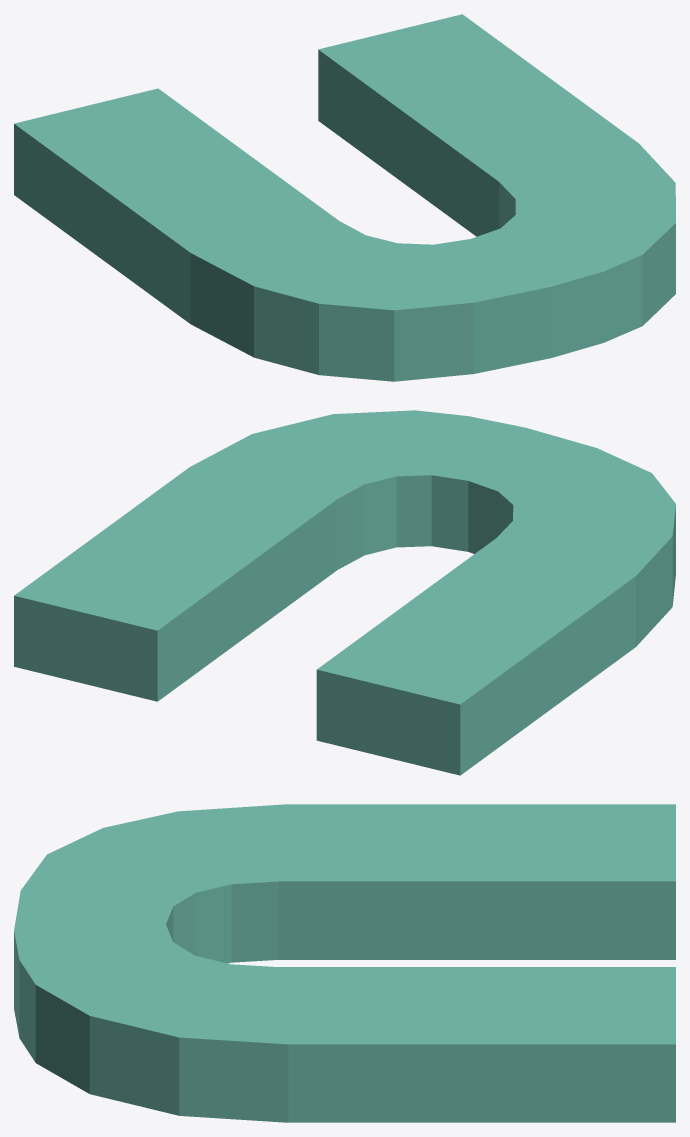
The model's file is vocal_u.glb.
3 renders of one model, top to bottom at view 1: azimuth 30°, elevation 25°; view 2: azimuth 150°, elevation 25°; view 3: azimuth 270°, elevation 25°, orthographic. The views are drawn at different scales.
Parts seen in each view (by area): view 1: Mesh_Mesh_head_geo.001_lambert2SG.001; view 2: Mesh_Mesh_head_geo.001_lambert2SG.001; view 3: Mesh_Mesh_head_geo.001_lambert2SG.001.
Boxes of the visible parts, x1=… form: Mesh_Mesh_head_geo.001_lambert2SG.001: x1=14, y1=14, x2=675, y2=381; Mesh_Mesh_head_geo.001_lambert2SG.001: x1=14, y1=410, x2=675, y2=775; Mesh_Mesh_head_geo.001_lambert2SG.001: x1=14, y1=804, x2=675, y2=1122.
Size of the model in its own units: 0.0263 by 0.004 by 0.0306.
